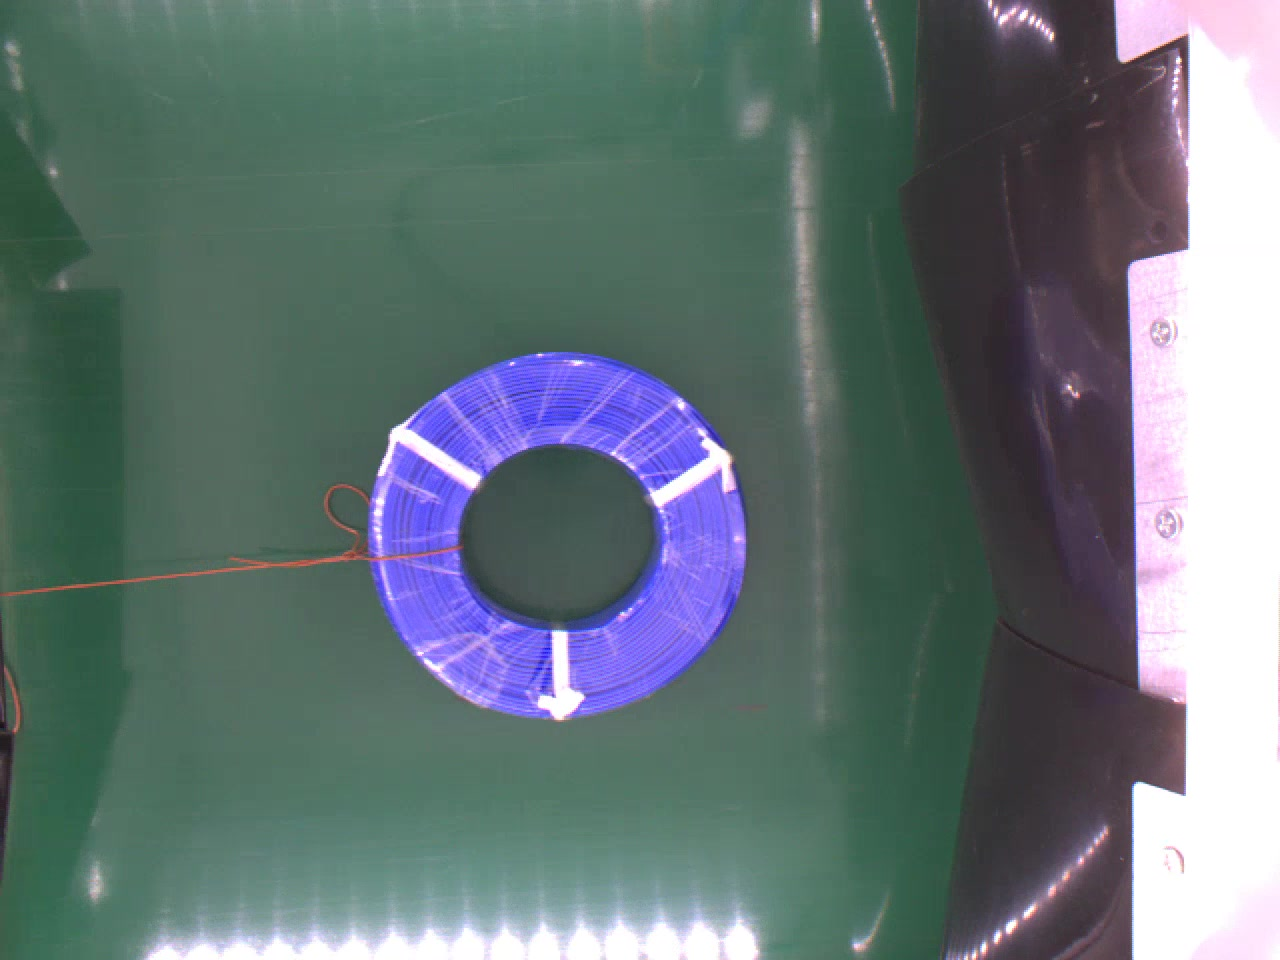blue: (365, 351, 750, 722)
